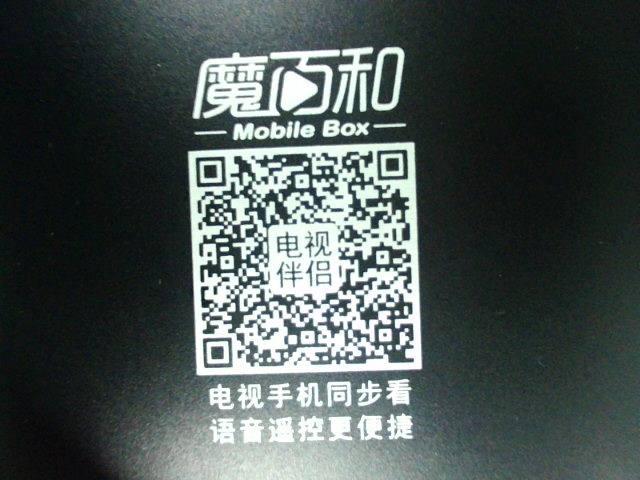AZ_MobileBox: (178, 38, 431, 446)
